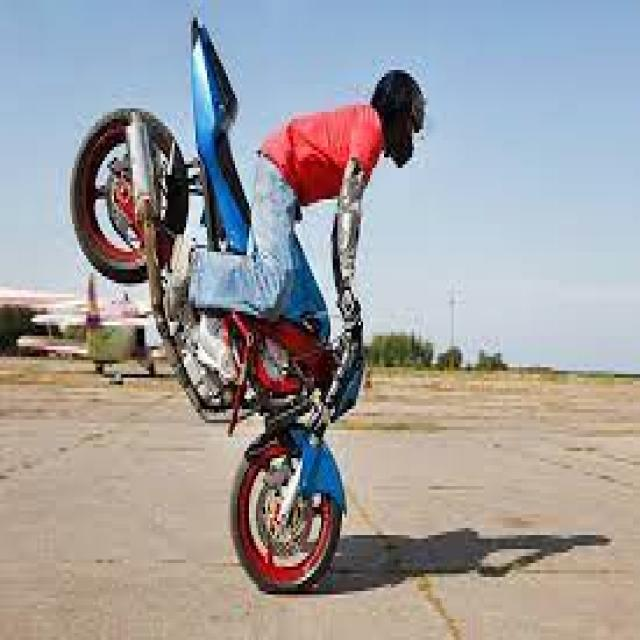Wheeling: (85, 5, 413, 582)
